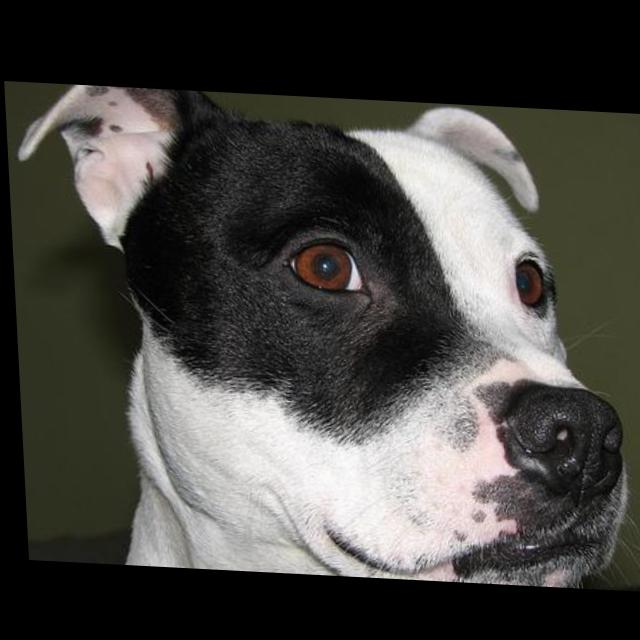staffford: (11, 82, 640, 586)
